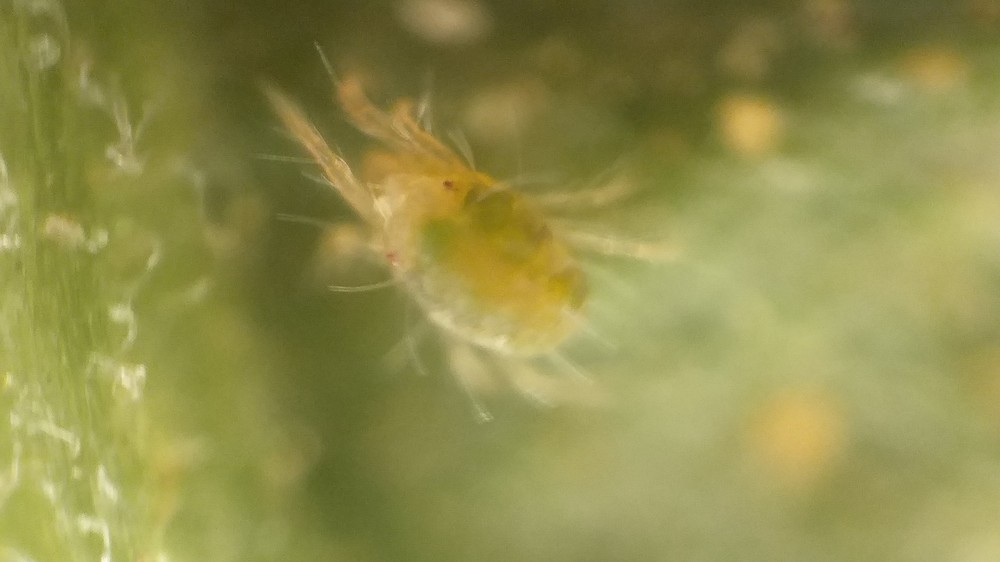Aracnido Rojo: (214, 44, 717, 458)
